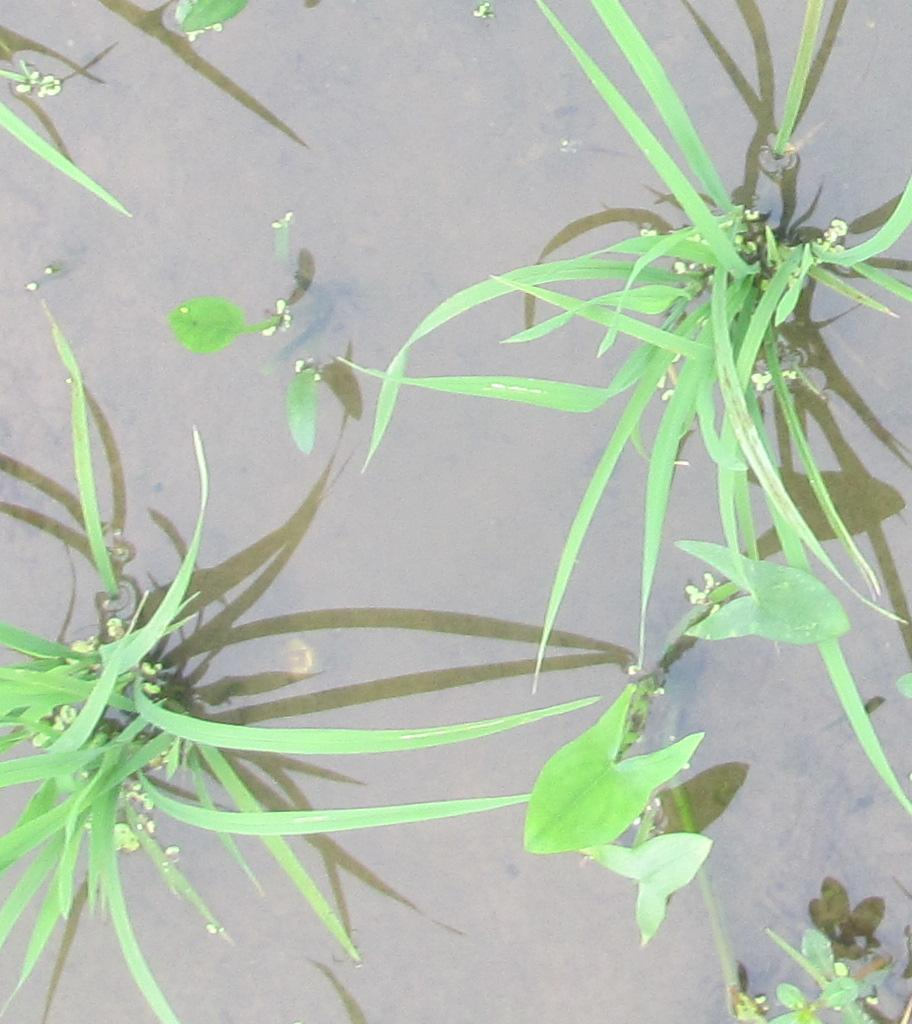Weed: (521, 682, 711, 908), (674, 541, 855, 653)
